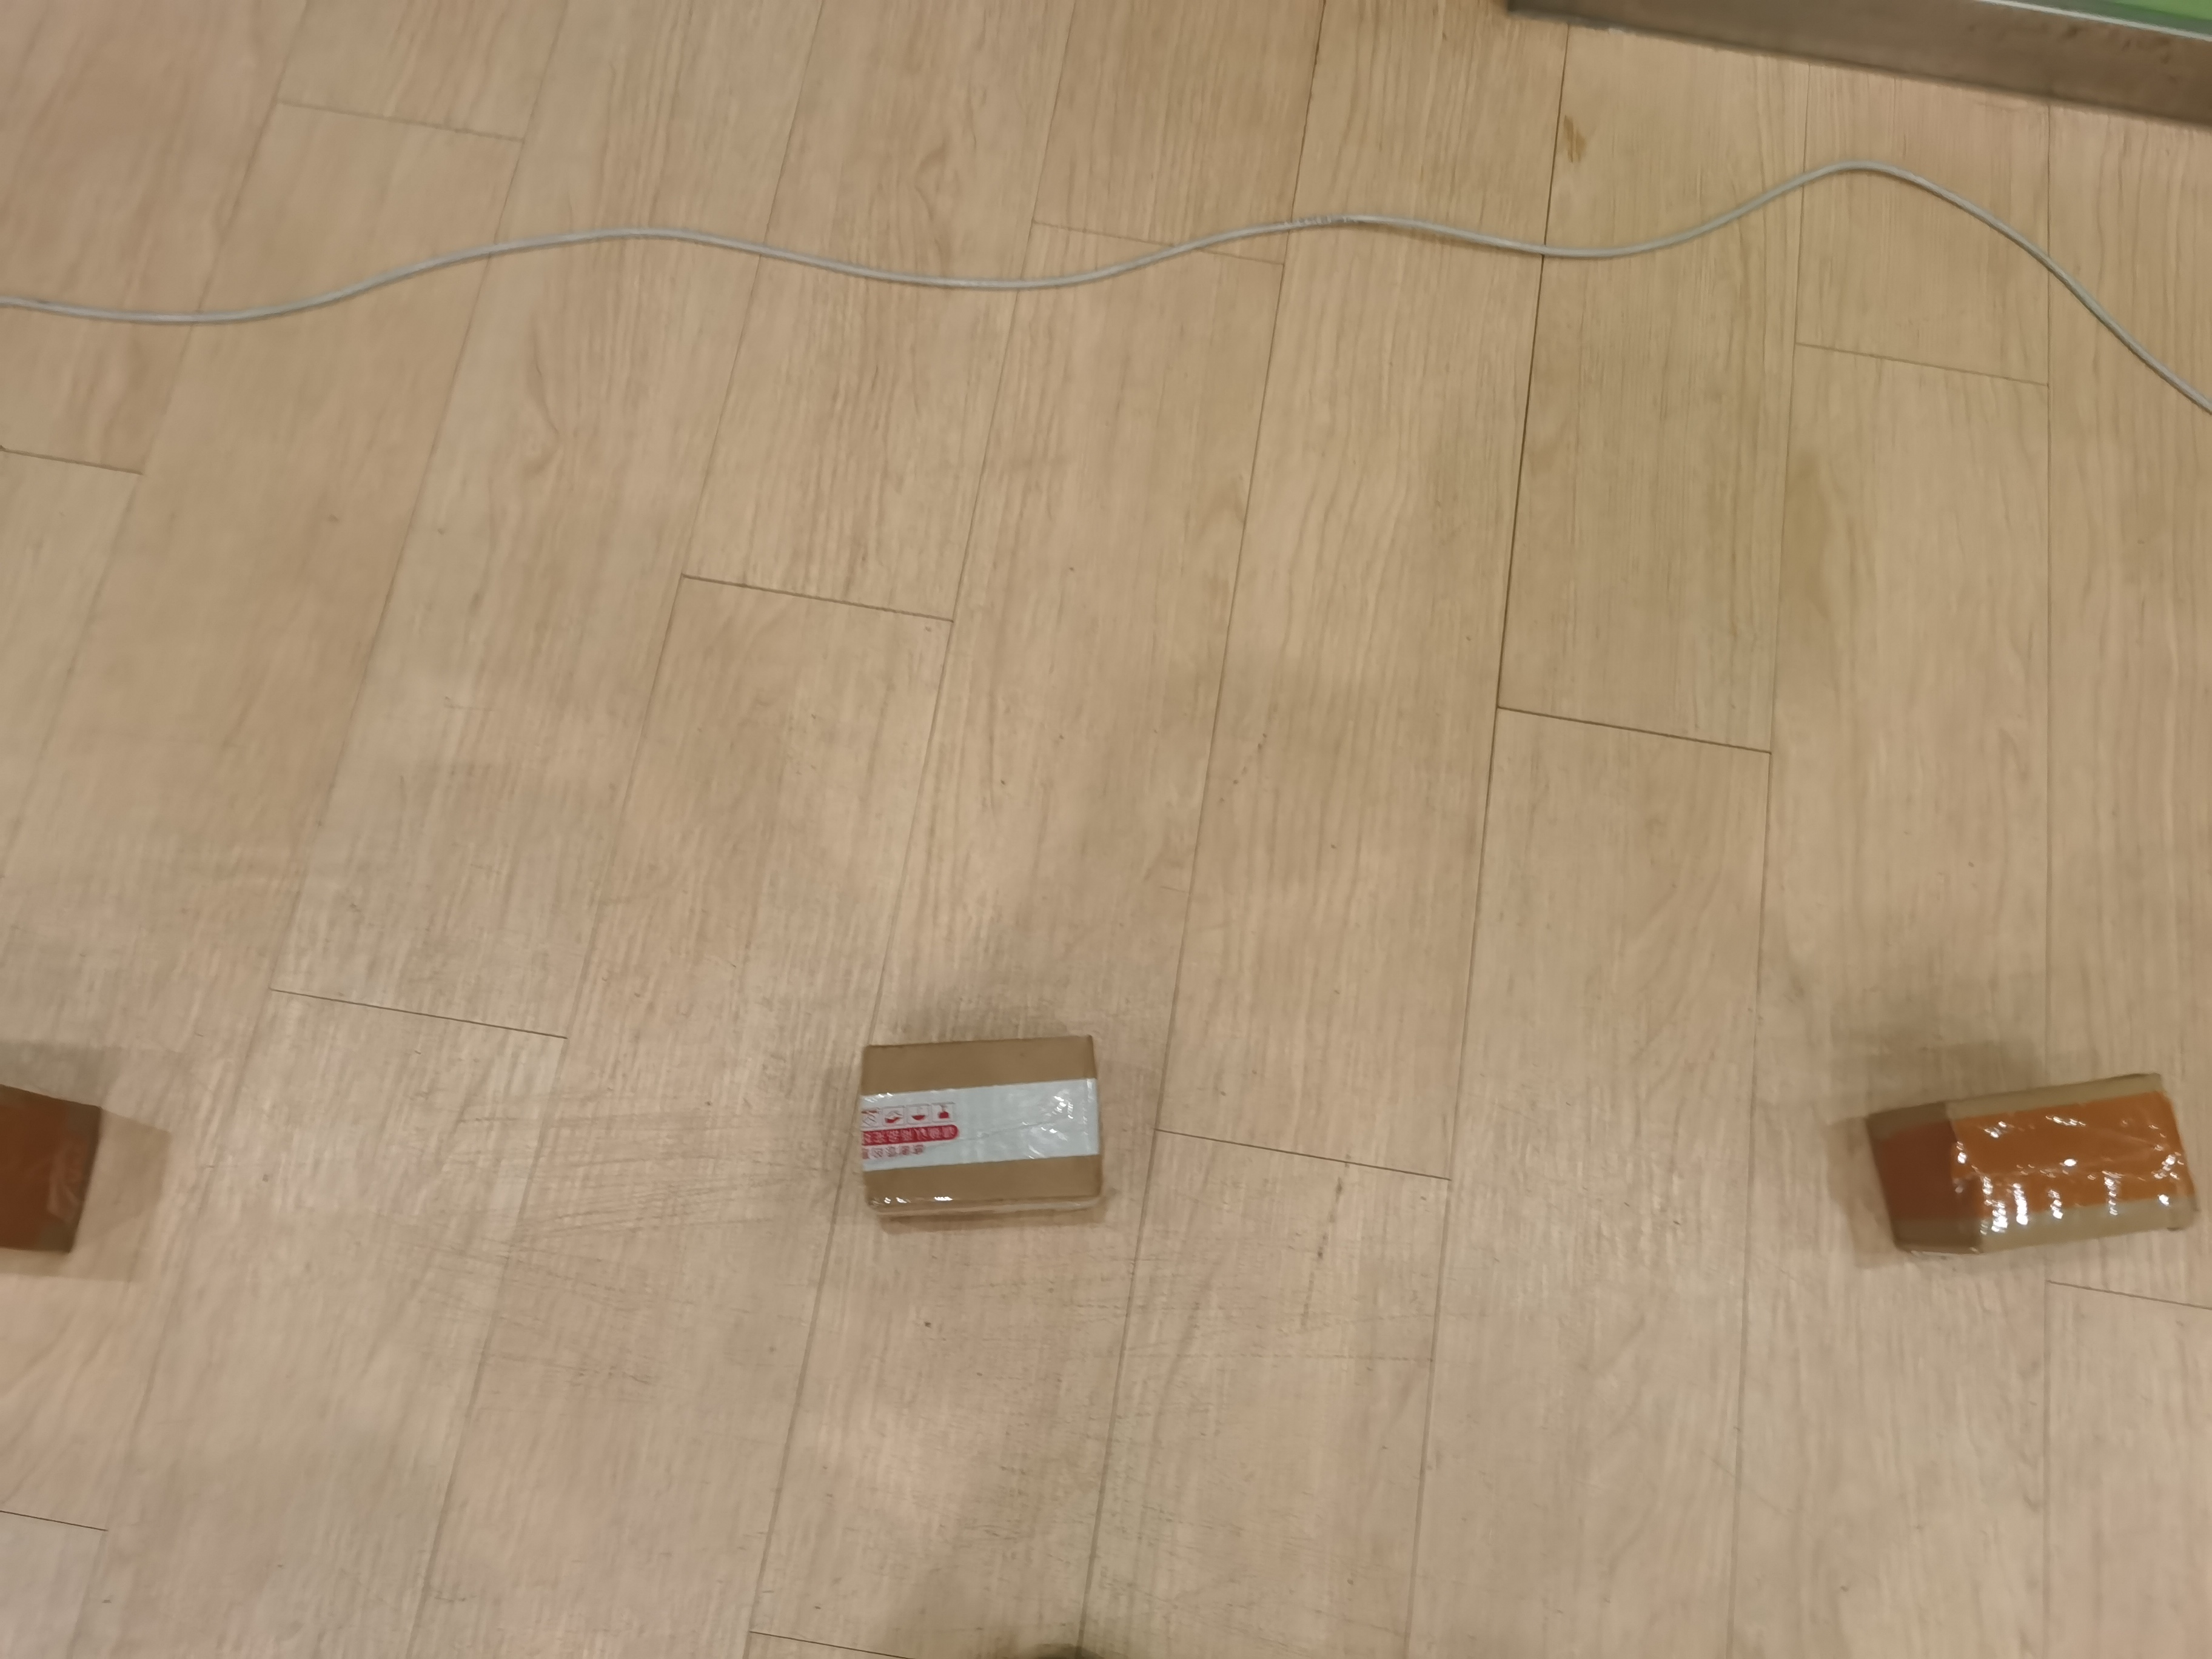box: (1851, 1051, 2205, 1297), (827, 1028, 1137, 1241)
